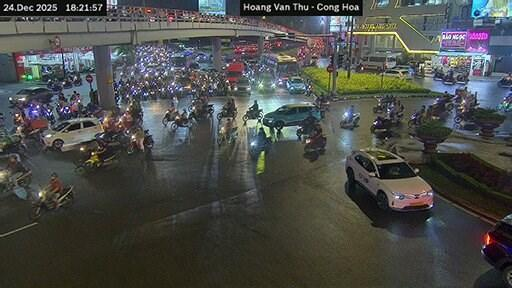motorbike: (28, 185, 73, 219), (83, 151, 118, 171), (0, 170, 31, 190), (0, 135, 26, 153), (249, 136, 271, 157), (170, 115, 195, 130), (188, 103, 213, 118), (304, 135, 326, 152), (218, 126, 236, 144), (295, 122, 314, 139), (370, 117, 393, 131), (313, 98, 329, 117), (339, 112, 358, 127), (242, 108, 262, 122), (162, 109, 179, 125), (217, 107, 236, 120), (454, 108, 473, 121), (373, 98, 390, 112), (125, 135, 138, 153), (432, 98, 453, 109), (42, 104, 54, 122), (10, 112, 24, 125), (58, 103, 71, 117), (28, 103, 41, 117), (144, 130, 153, 149), (48, 81, 61, 93), (498, 97, 511, 109), (408, 112, 419, 126), (496, 76, 511, 86), (442, 73, 454, 84), (61, 77, 71, 88), (455, 73, 467, 82), (73, 76, 82, 85), (434, 72, 444, 80), (307, 85, 312, 95)
